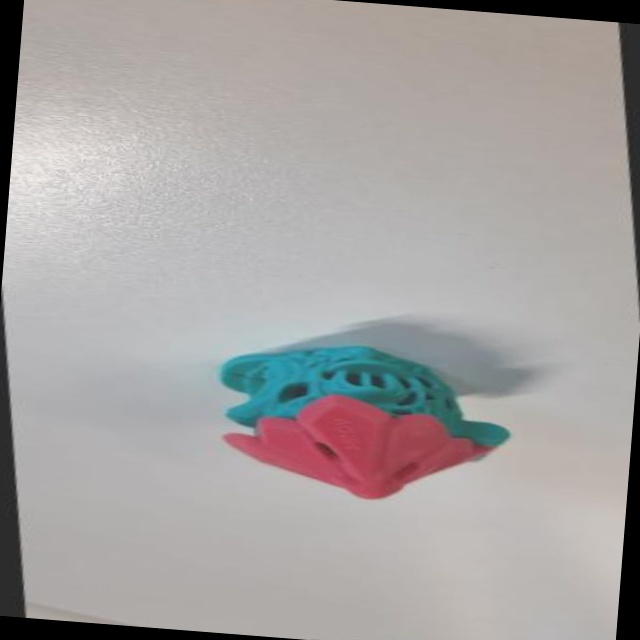House: (170, 279, 567, 539)
